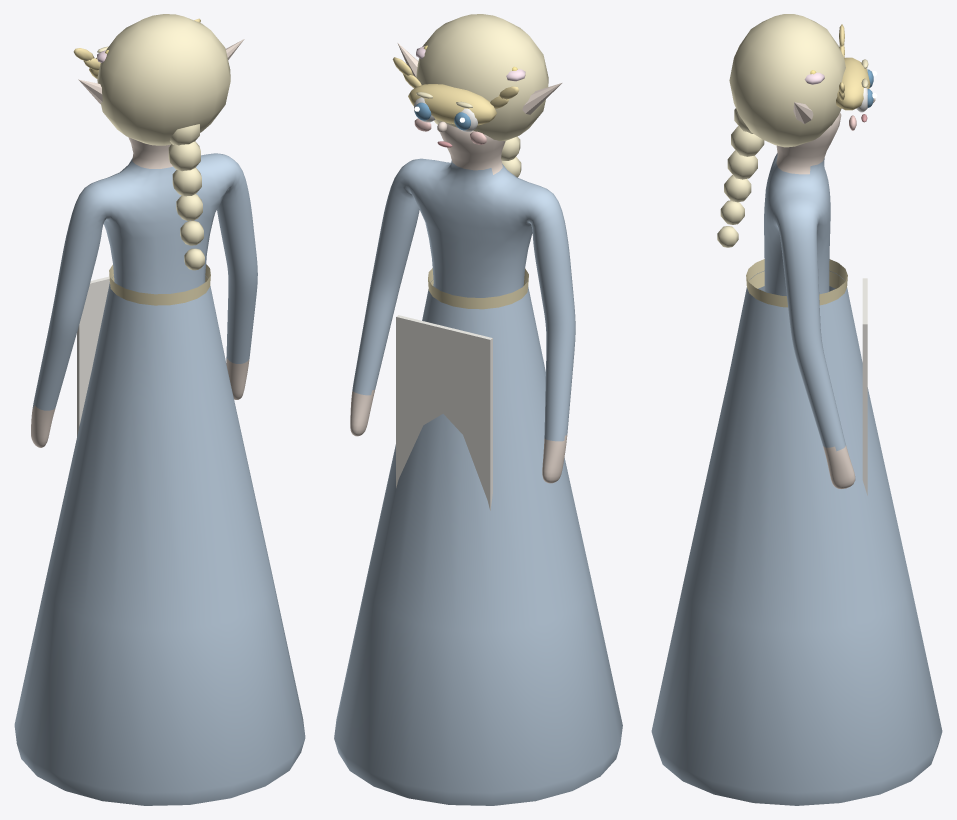
The model's file is servant_maid.gltf.
The picture shows the model from 3 angles, left to right: view 1: azimuth 30°, elevation 25°; view 2: azimuth 150°, elevation 25°; view 3: azimuth 270°, elevation 25°; orthographic projection.
Visible parts, largest first — view 1: servant_maid; view 2: servant_maid; view 3: servant_maid.
Boxes of the visible parts, x1=… form: servant_maid: x1=14, y1=14, x2=305, y2=805; servant_maid: x1=334, y1=14, x2=622, y2=805; servant_maid: x1=651, y1=14, x2=942, y2=805.
Bounding box in the file's own units: 0.5902 × 1.62 × 0.5902.
